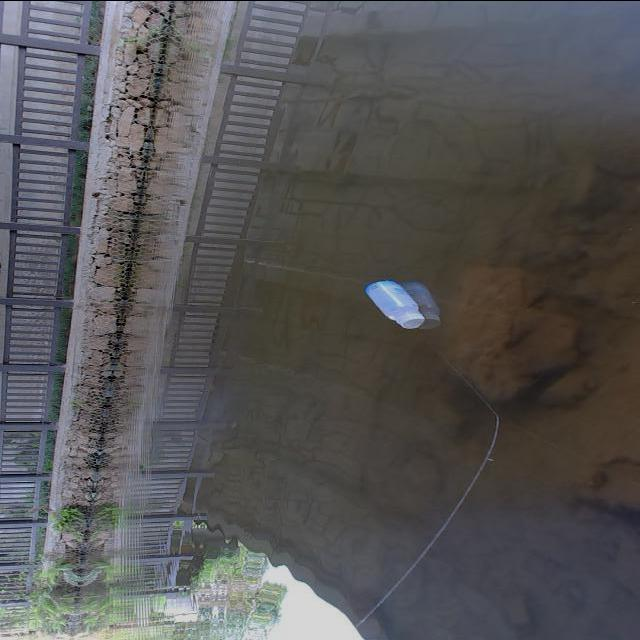bottle: (358, 276, 436, 332)
